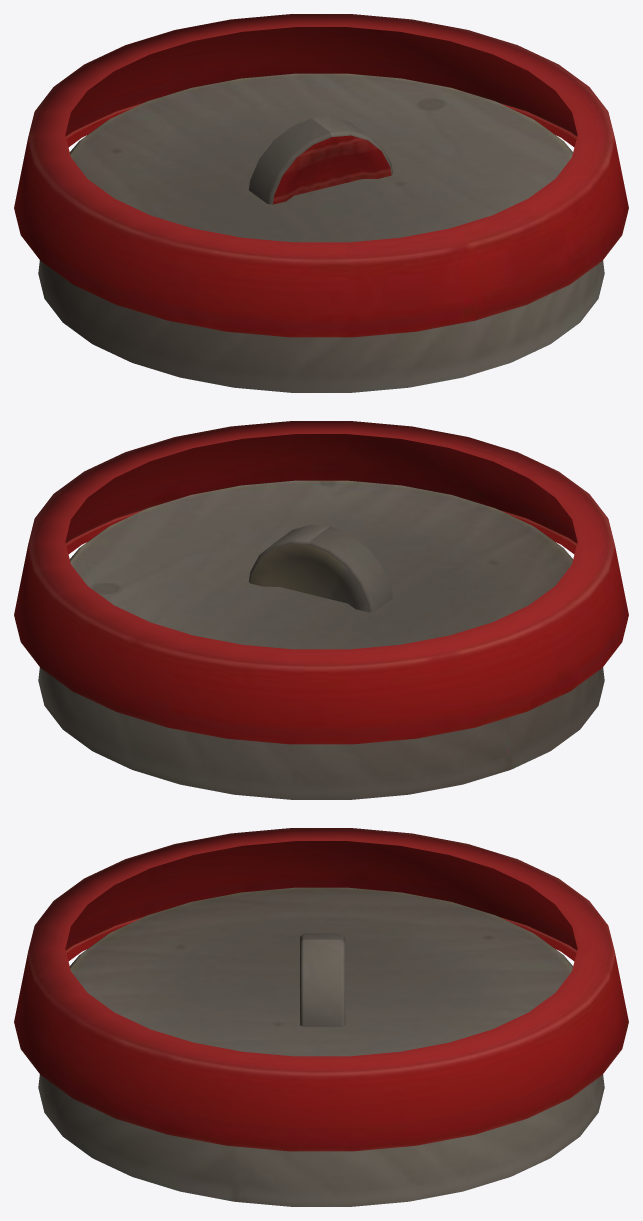
File: horde.glb
3 renders of one model, top to bottom at view 1: azimuth 30°, elevation 25°; view 2: azimuth 150°, elevation 25°; view 3: azimuth 270°, elevation 25°, orthographic.
Visible parts, largest first — view 1: Pedestal_Horde; view 2: Pedestal_Horde; view 3: Pedestal_Horde.
Part boxes in pixels (bbox=[...]): Pedestal_Horde: bbox=[14, 14, 628, 392]; Pedestal_Horde: bbox=[14, 421, 628, 799]; Pedestal_Horde: bbox=[14, 828, 628, 1206].
Size of the model in its own units: 2.83 by 0.7566 by 2.85.
1 material, 1 textured.
